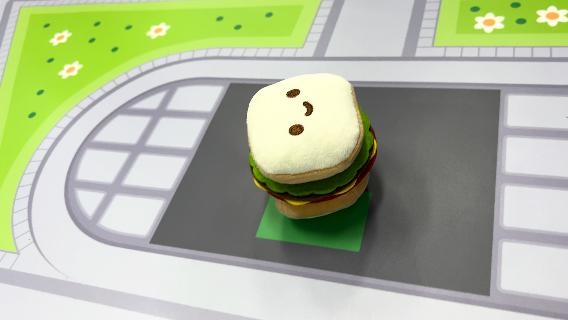sandwich: (244, 70, 380, 220)
